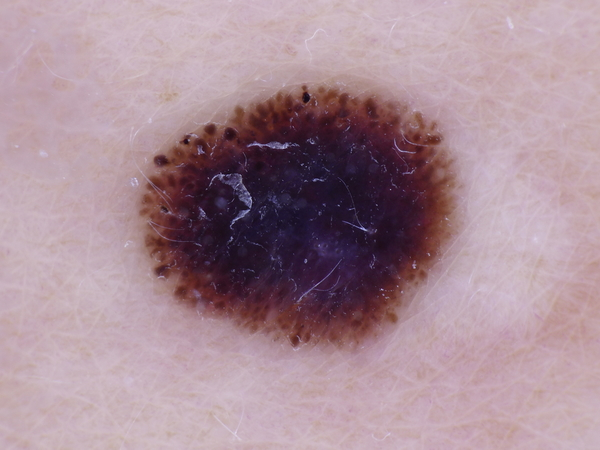Detected Lesion: (130, 80, 464, 357)
